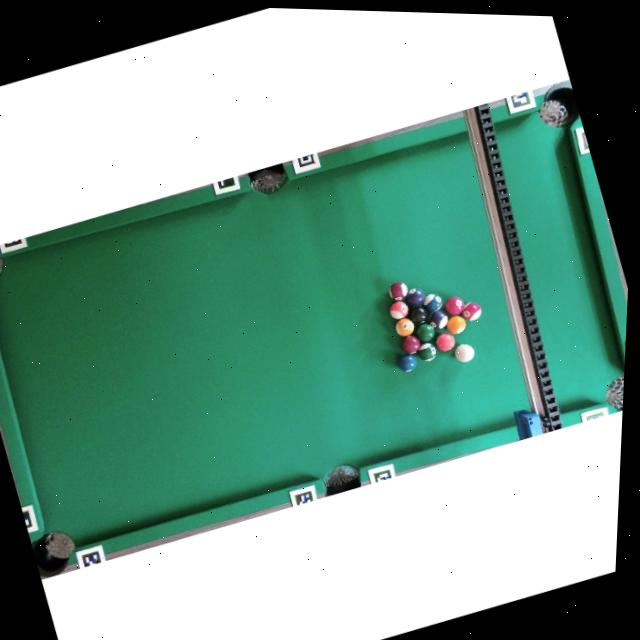cue ball: (450, 339, 479, 367)
other: (458, 299, 485, 325), (421, 290, 447, 316), (426, 307, 452, 333), (442, 293, 468, 318), (386, 298, 411, 323), (433, 329, 458, 354), (413, 321, 439, 345), (405, 304, 430, 328), (402, 285, 427, 309), (444, 313, 469, 337), (399, 332, 424, 356), (387, 279, 411, 303), (395, 351, 420, 374), (414, 340, 439, 363), (393, 316, 418, 339)
